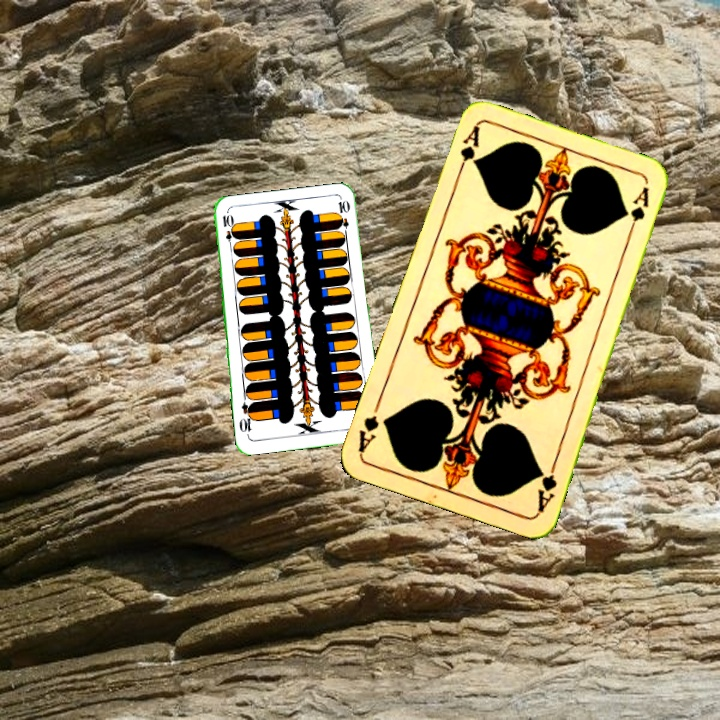E10: (218, 210, 236, 251)
GA: (453, 122, 483, 180), (533, 456, 560, 515)
